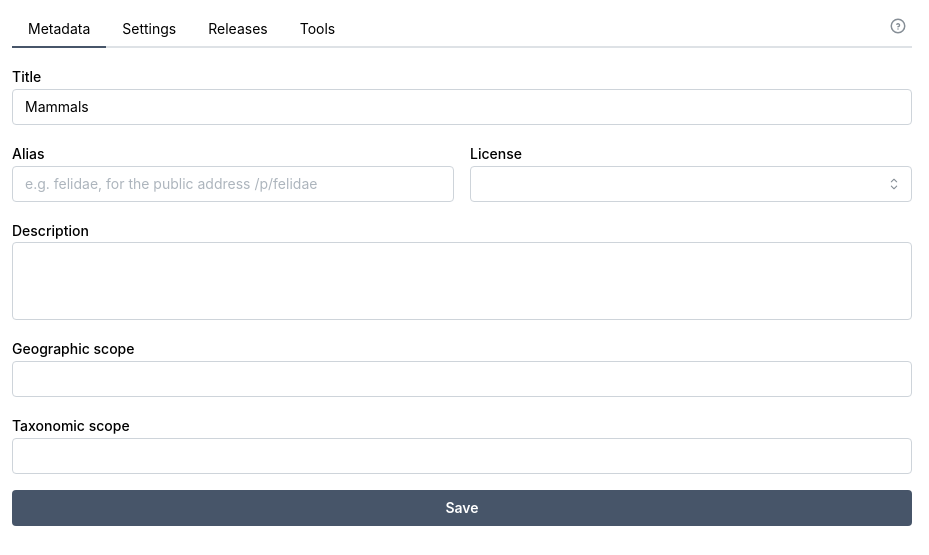
Test: a RUNNING latest run disables the button and resumes the progress display on mount
Expected: the field labelled "Title" holds "Mammals", [12,89,912,125]
What coordinates should you click on to do the following:
click the tab "Tools"
I would click on:
 (317, 30)
Its box is [284,12,351,48].
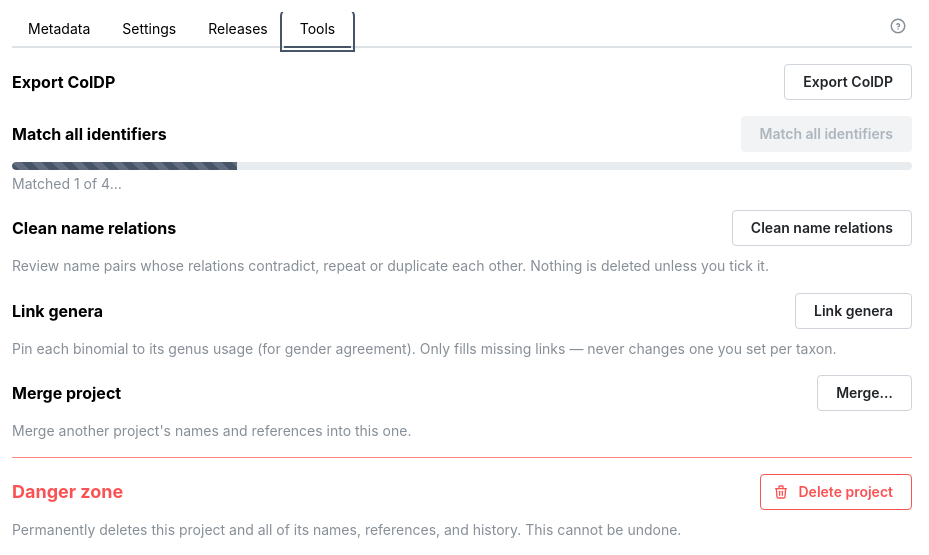
Expected: the text "Matched 1 of 4…" is shown, [12,175,122,192]
Expected: the button "Match all identifiers" is disabled, [740,116,912,152]
